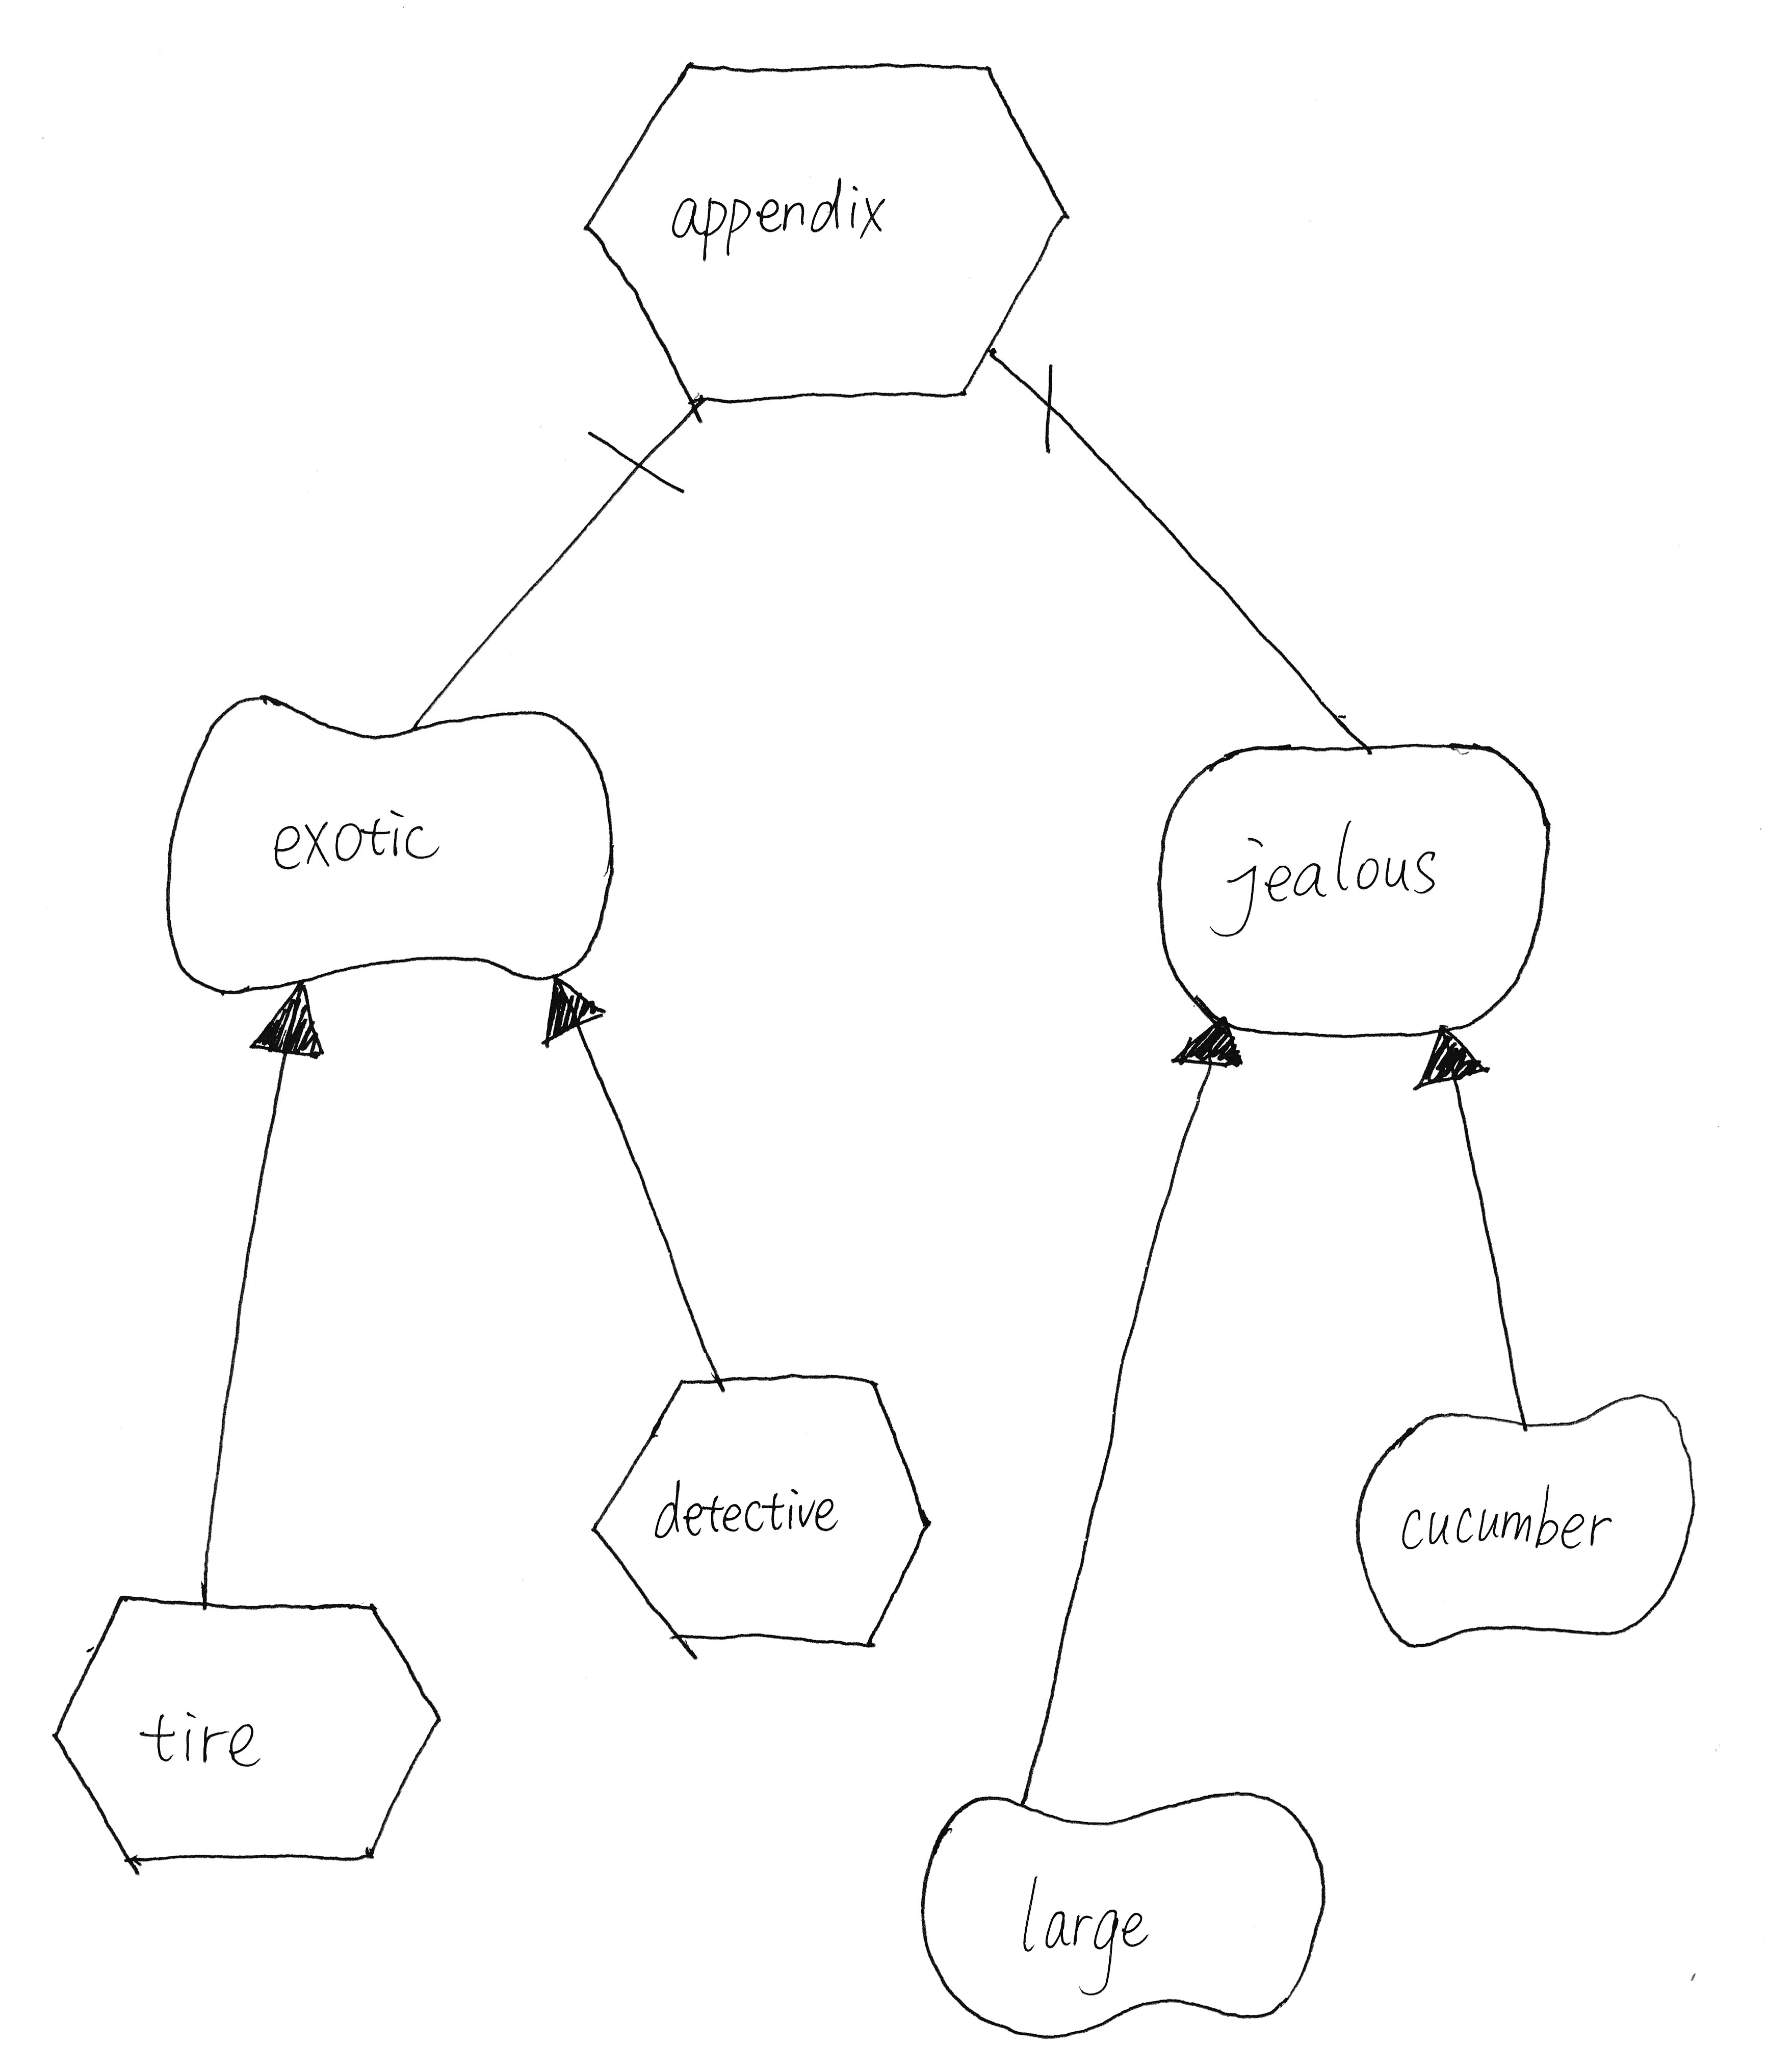and: (577, 377, 720, 514), (980, 319, 1090, 473)
goal: (1129, 719, 1569, 1064)
or: (224, 966, 354, 1080), (1385, 1010, 1523, 1111), (508, 955, 631, 1064), (1159, 1003, 1262, 1087)
quality: (140, 661, 636, 1011), (894, 1774, 1352, 2051), (1331, 1369, 1718, 1671)
task: (571, 39, 1097, 431), (40, 1564, 461, 1891), (570, 1353, 966, 1679)
